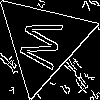W: (18, 16, 72, 73)
